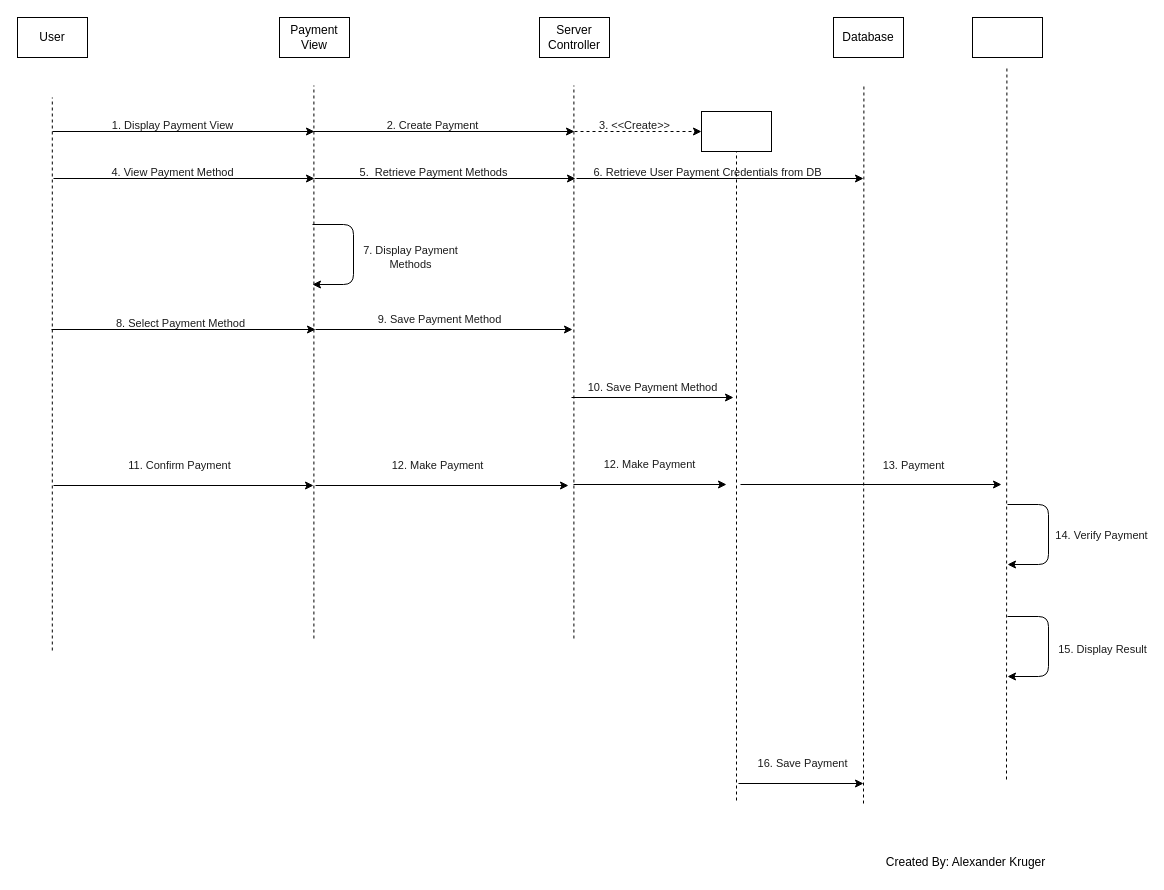
This 1164x890 diagram has some shape labels left out. The centre of each missing label's shape, as x and y in pixels:
Financial Instution: the point at 1007,37
Payment: the point at 736,131
